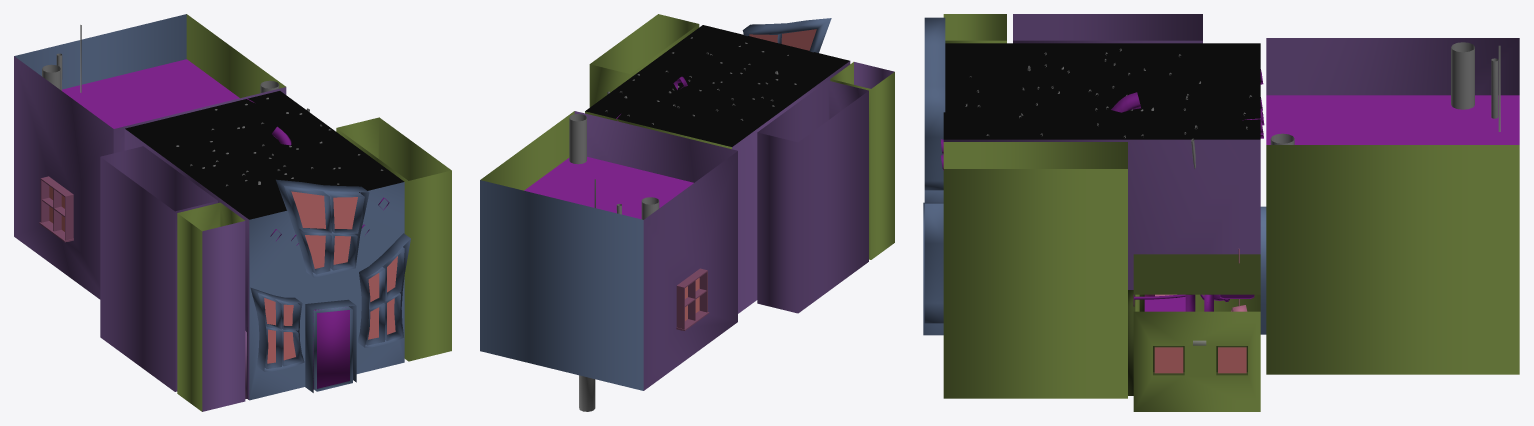
The picture shows the model from 3 angles, left to right: view 1: azimuth 30°, elevation 25°; view 2: azimuth 150°, elevation 25°; view 3: azimuth 270°, elevation 25°; orthographic projection. The views are drawn at different scales.
Visible parts, largest first — view 1: innerWallsHallway01_60, innerWallsKitchen_5, livingroomCeiling_93, innerWallsLivingroom_81, innerWallsHallway02_67, KitchenCeiling_10, windowFramesInner_85, windowFramesTopInner_86, windowPanesTopInner_87, doorFrontInternal_83, windowPanesInner_84, doorFrameInternal_82 (+2 smaller); view 2: innerWallsKitchen_5, innerWallsHallway01_60, livingroomCeiling_93, KitchenCeiling_10, innerWallsLivingroom_81, innerWallsHallway02_67, windowframeKitchen_24, windowFramesTopInner_86, kitchenPipes03_23, windowPanesTopInner_87, chuteKitchenBasement_29, livingroomSphereLightThingy_94; view 3: innerWallsKitchen_5, innerWallsHallway02_67, livingroomCeiling_93, innerWallsLivingroom_81, KitchenCeiling_10, bathroomInnerWalls_38, innerWallsHallway01_60, bathroomCeiling_57, windowFramesTopInner_86, windowFramesInner_85, kitchenPipes01_17, livingroomSphereLightThingy_94 (+5 smaller).
Boxes of the visible parts, bbox=[...] form: innerWallsHallway01_60: bbox=[100, 146, 245, 411]; innerWallsKitchen_5: bbox=[14, 14, 286, 299]; livingroomCeiling_93: bbox=[125, 91, 404, 219]; innerWallsLivingroom_81: bbox=[124, 129, 404, 400]; innerWallsHallway02_67: bbox=[336, 117, 451, 361]; KitchenCeiling_10: bbox=[62, 59, 239, 128]; windowFramesInner_85: bbox=[250, 233, 410, 371]; windowFramesTopInner_86: bbox=[276, 179, 369, 277]; windowPanesTopInner_87: bbox=[291, 191, 357, 268]; doorFrontInternal_83: bbox=[313, 307, 349, 389]; windowPanesInner_84: bbox=[264, 256, 397, 363]; doorFrameInternal_82: bbox=[305, 299, 356, 392]; innerWallsKitchen_5: bbox=[480, 111, 737, 390]; innerWallsHallway01_60: bbox=[757, 62, 894, 313]; livingroomCeiling_93: bbox=[585, 25, 849, 146]; KitchenCeiling_10: bbox=[524, 157, 693, 219]; innerWallsLivingroom_81: bbox=[585, 61, 850, 313]; innerWallsHallway02_67: bbox=[589, 14, 699, 107]; windowframeKitchen_24: bbox=[676, 268, 709, 330]; windowFramesTopInner_86: bbox=[742, 18, 831, 52]; kitchenPipes03_23: bbox=[569, 114, 586, 164]; windowPanesTopInner_87: bbox=[749, 29, 816, 50]; chuteKitchenBasement_29: bbox=[579, 375, 595, 411]; livingroomSphereLightThingy_94: bbox=[605, 37, 796, 124]; innerWallsKitchen_5: bbox=[1266, 38, 1519, 374]; innerWallsHallway02_67: bbox=[943, 142, 1127, 398]; livingroomCeiling_93: bbox=[943, 43, 1260, 139]; innerWallsLivingroom_81: bbox=[943, 139, 1260, 289]; KitchenCeiling_10: bbox=[1266, 95, 1519, 144]; bathroomInnerWalls_38: bbox=[1133, 294, 1260, 411]; innerWallsHallway01_60: bbox=[943, 14, 1202, 43]; bathroomCeiling_57: bbox=[1133, 254, 1260, 294]; windowFramesTopInner_86: bbox=[924, 17, 945, 190]; windowFramesInner_85: bbox=[924, 190, 943, 323]; kitchenPipes01_17: bbox=[1451, 42, 1474, 109]; livingroomSphereLightThingy_94: bbox=[941, 48, 1264, 170].
Size of the model in its own units: 6.28 by 5.73 by 9.42.
